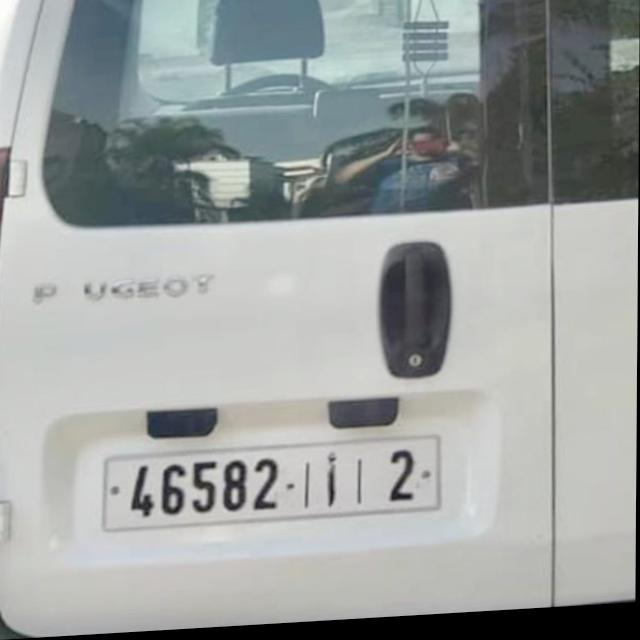License-Plate: (106, 441, 441, 531)
